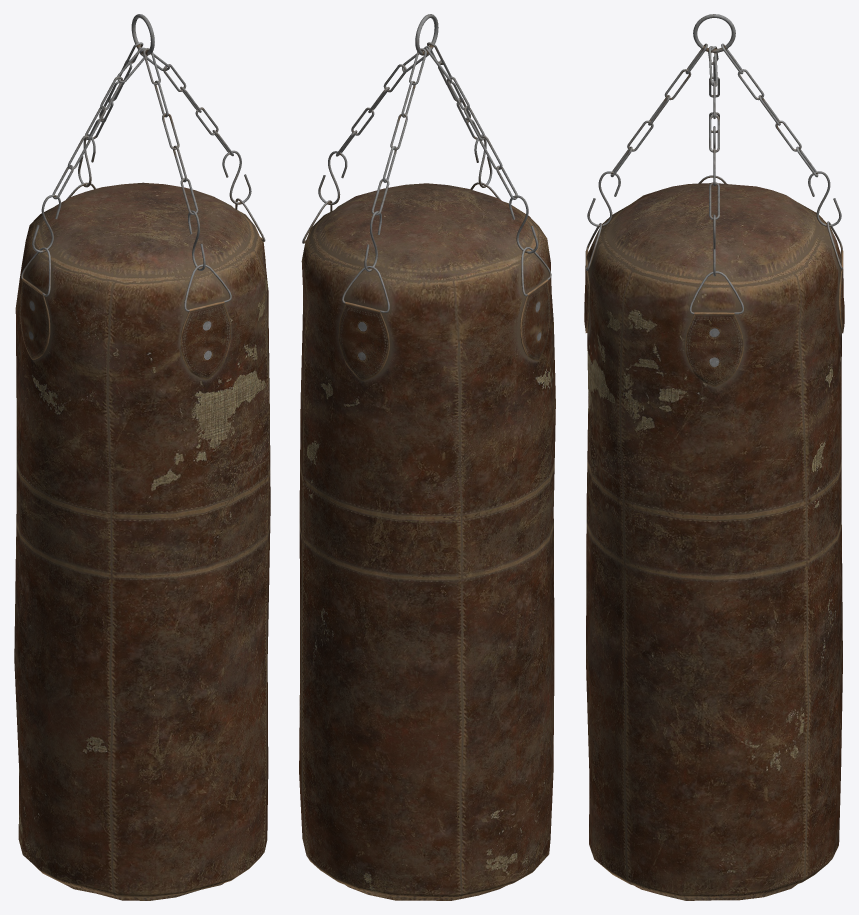
The model's file is boxing_bag.glb.
The picture shows the model from 3 angles, left to right: view 1: azimuth 30°, elevation 25°; view 2: azimuth 150°, elevation 25°; view 3: azimuth 270°, elevation 25°; orthographic projection.
Parts seen in each view (by area): view 1: Boxing_Bag_low, Cadena_low, Parche_low, Parche_3_low, Gancho_low, Amarraderas_low; view 2: Boxing_Bag_low, Cadena_low, Parche_2_low, Parche_3_low, Gancho_low, Amarraderas_low; view 3: Boxing_Bag_low, Parche_1_low, Cadena_low, Gancho_low, Amarraderas_low.
Part boxes in pixels (x1,y1,x2,y2): Boxing_Bag_low: (14,182,270,900); Cadena_low: (52,42,233,214); Parche_low: (180,301,230,379); Parche_3_low: (19,278,50,359); Gancho_low: (32,134,251,270); Amarraderas_low: (21,182,265,311); Boxing_Bag_low: (299,183,555,900); Cadena_low: (336,42,517,215); Parche_2_low: (338,302,389,380); Parche_3_low: (520,279,550,360); Gancho_low: (318,134,538,271); Amarraderas_low: (302,182,551,312); Boxing_Bag_low: (586,183,842,900); Parche_1_low: (685,312,743,386); Cadena_low: (610,43,818,219); Gancho_low: (587,126,841,276); Amarraderas_low: (586,175,842,314).
Size of the model in its own units: 42.94 by 157 by 42.94.
1 material, 1 textured.
